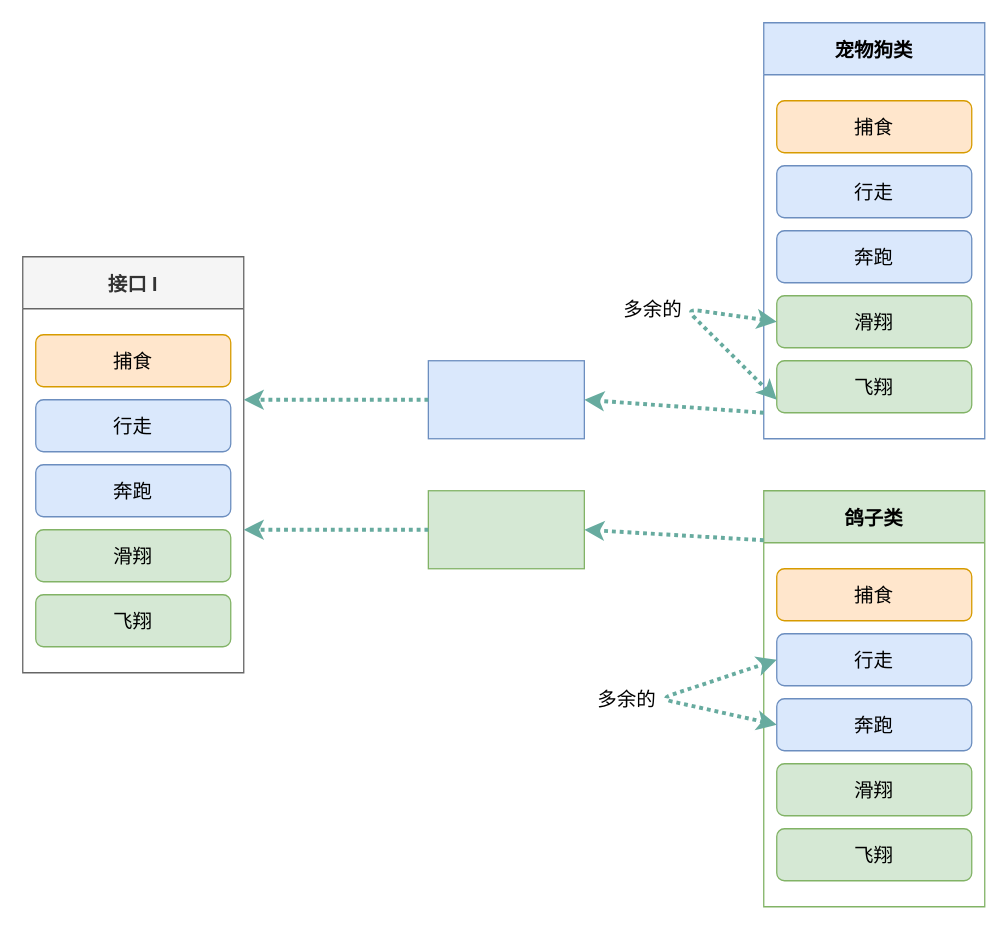
The diagram is 1007 pixels wide and 929 high, and some of its shapes have lost their labels. Here are the shapes that lost their labels. From the top down, the centre of each, then its label:
pixel 505 399: 犬科
pixel 505 529: 鸟类
